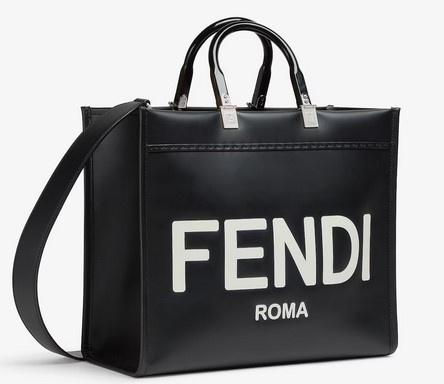FENDI: (172, 213, 370, 293)
